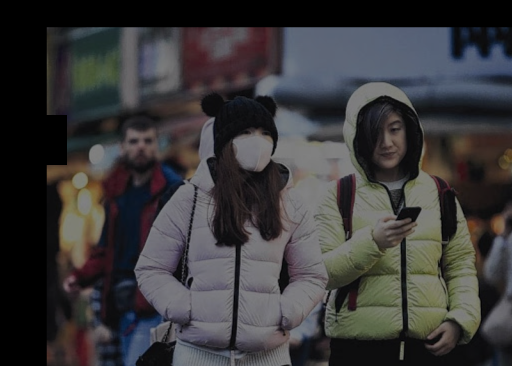with_mask: (231, 127, 272, 171)
without_mask: (371, 117, 406, 168), (125, 132, 155, 169)
